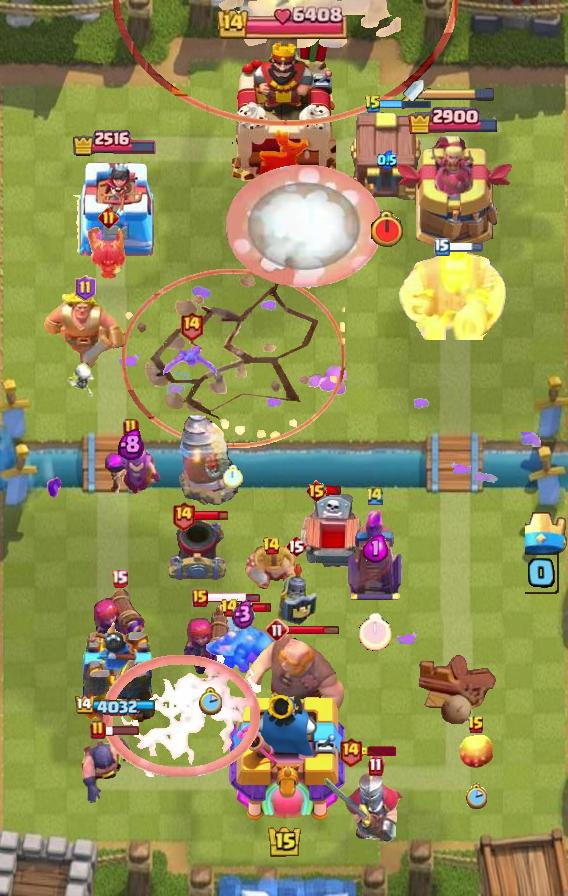balloon: (240, 633, 348, 733)
bar: (391, 132, 515, 256)
barbarian: (162, 345, 220, 381)
barbarian-evolution: (103, 655, 261, 777)
bomb: (347, 109, 427, 203)
clock: (217, 5, 351, 39)
electro-spirit: (118, 428, 144, 460), (364, 533, 389, 562), (232, 599, 255, 629), (377, 150, 397, 170)
elixir: (369, 210, 405, 249), (359, 613, 393, 651), (198, 687, 222, 715), (465, 783, 487, 809), (223, 464, 243, 488)
elixir-golem-mid: (298, 492, 368, 578)
emote: (207, 592, 262, 605), (288, 624, 341, 636), (380, 98, 432, 110), (448, 242, 485, 255), (194, 510, 229, 523), (104, 724, 140, 736), (235, 602, 272, 613), (360, 746, 396, 756), (325, 484, 343, 496)
giant-skeleton: (398, 246, 508, 340)
goblin-giant: (240, 544, 302, 596)
goblin-hut: (42, 290, 128, 370)
golden-knight: (87, 223, 129, 283)
graveyard: (201, 611, 285, 675)
guard: (122, 269, 346, 448)
heal-spirit: (63, 363, 95, 397)
hog: (459, 731, 493, 769)
ice-spirit-evolution-symbol: (345, 510, 405, 602)
king-tower: (223, 689, 345, 826), (232, 39, 336, 181)
king-tower-bar: (424, 87, 496, 101)
magic-archer: (178, 414, 238, 506)
mega-minion: (92, 582, 146, 656), (184, 602, 236, 674)
monk: (80, 735, 134, 805)
musketeer: (166, 516, 228, 584)
princess: (275, 560, 317, 628)
queen-tower: (72, 619, 156, 731), (69, 158, 159, 256)
rascal-girl: (101, 443, 161, 497)
royal-ghost: (114, 0, 458, 126)
selected: (408, 106, 501, 135), (71, 127, 157, 156), (73, 695, 155, 716)
text: (179, 310, 204, 341), (172, 501, 197, 532), (337, 737, 362, 768), (265, 618, 289, 642), (304, 479, 327, 503), (75, 275, 96, 301), (285, 534, 307, 558), (98, 208, 119, 229), (365, 485, 385, 506), (262, 536, 281, 556), (221, 598, 240, 618), (364, 94, 382, 114), (467, 715, 485, 735), (112, 568, 129, 587), (123, 418, 139, 438), (90, 720, 106, 740), (434, 238, 450, 256), (192, 589, 208, 607)
wall-breaker: (225, 165, 382, 287)
wall-breaker-evolution: (322, 756, 406, 846)
